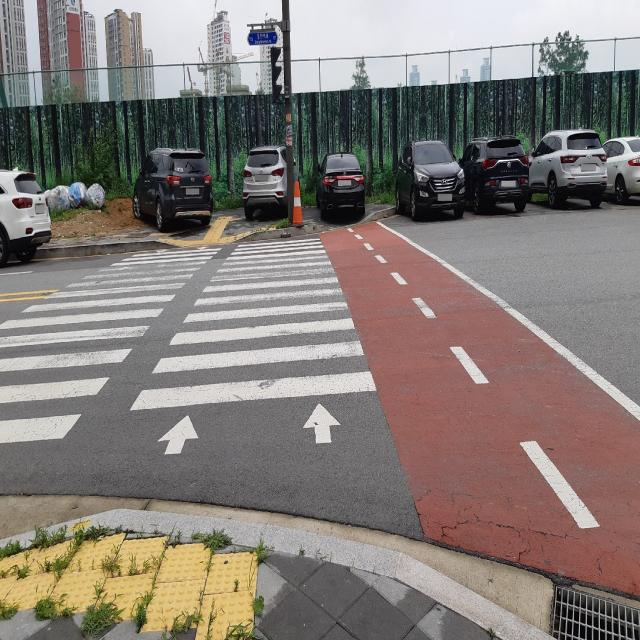횡단보도: (0, 236, 379, 461)
